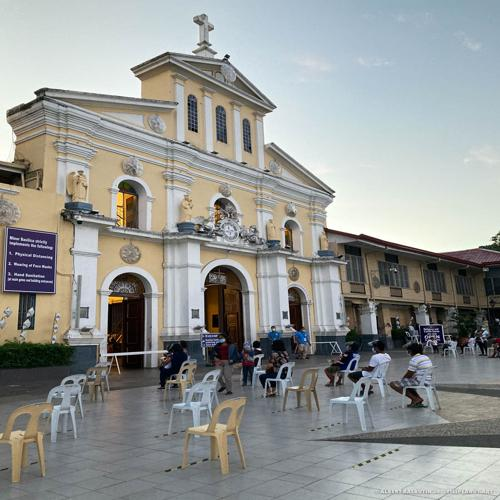Manaoag Church: (6, 9, 337, 355)
